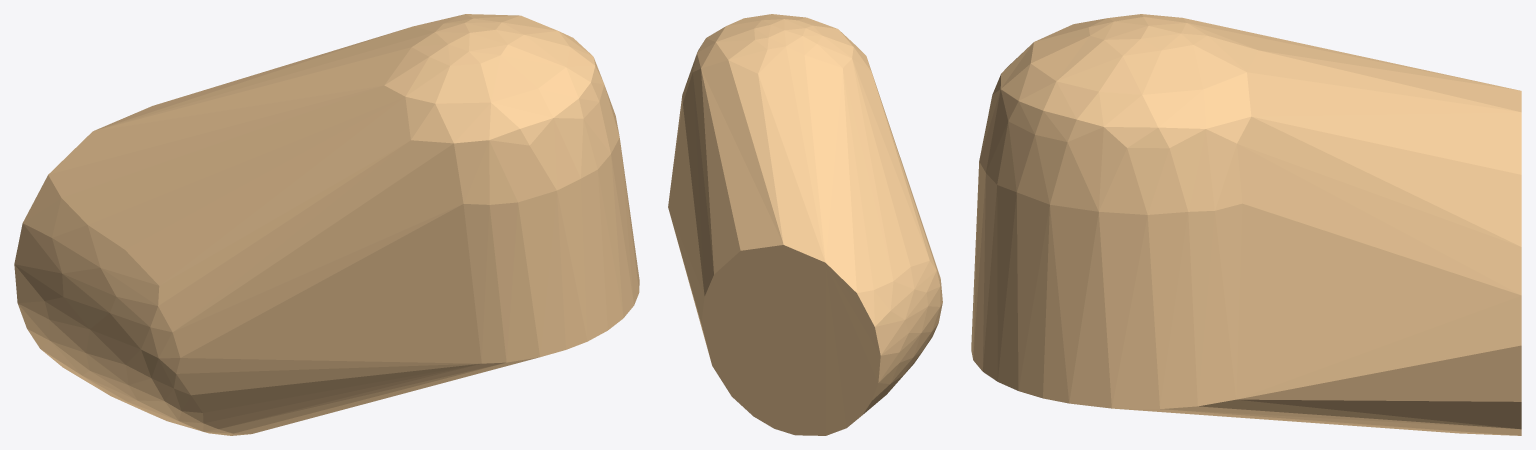
The model's file is dualpanda_Panda_leftArm_link3_respondable_coll_1.dae.
The picture shows the model from 3 angles, left to right: view 1: azimuth 30°, elevation 25°; view 2: azimuth 150°, elevation 25°; view 3: azimuth 270°, elevation 25°; orthographic projection. The views are drawn at different scales.
Visible parts, largest first — view 1: node; view 2: node; view 3: node.
Boxes of the visible parts, left/top/right/bottom form: node: left=14, top=14, right=639, bottom=435; node: left=668, top=14, right=942, bottom=435; node: left=971, top=14, right=1521, bottom=435.
Bounding box in the file's own units: 0.1923 × 0.1731 × 0.1761.
